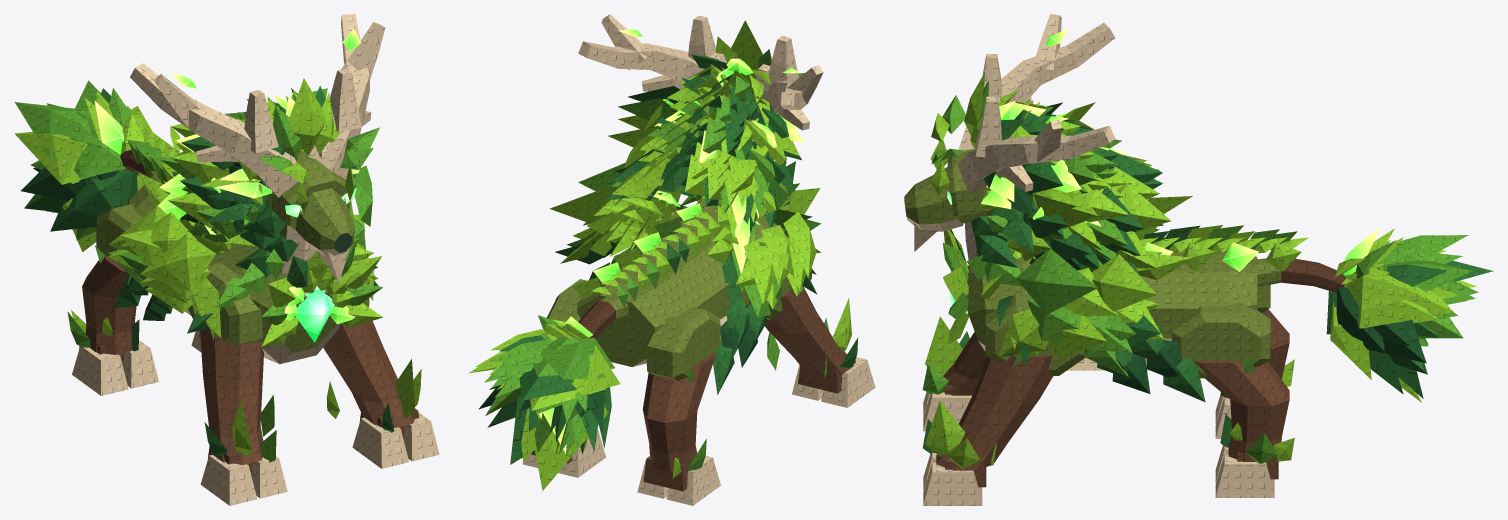
Rendered from Qilin.glb.
3 renders of one model, left to right at view 1: azimuth 30°, elevation 25°; view 2: azimuth 150°, elevation 25°; view 3: azimuth 270°, elevation 25°, orthographic. The views are drawn at different scales.
Visible parts, largest first — view 1: Qilin_Body, Qilin_Glow; view 2: Qilin_Body, Qilin_Glow; view 3: Qilin_Body, Qilin_Glow.
Boxes of the visible parts, <box> form: Qilin_Body: <box>15,14,439,505</box>; Qilin_Glow: <box>94,28,361,342</box>; Qilin_Body: <box>469,14,875,505</box>; Qilin_Glow: <box>539,29,805,453</box>; Qilin_Body: <box>904,14,1493,505</box>; Qilin_Glow: <box>947,29,1379,321</box>.
Size of the model in its own units: 10.21 by 15.91 by 21.98.
Materials: 1 (1 with a texture image).
